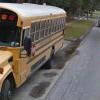Bus: (3, 1, 71, 92)
